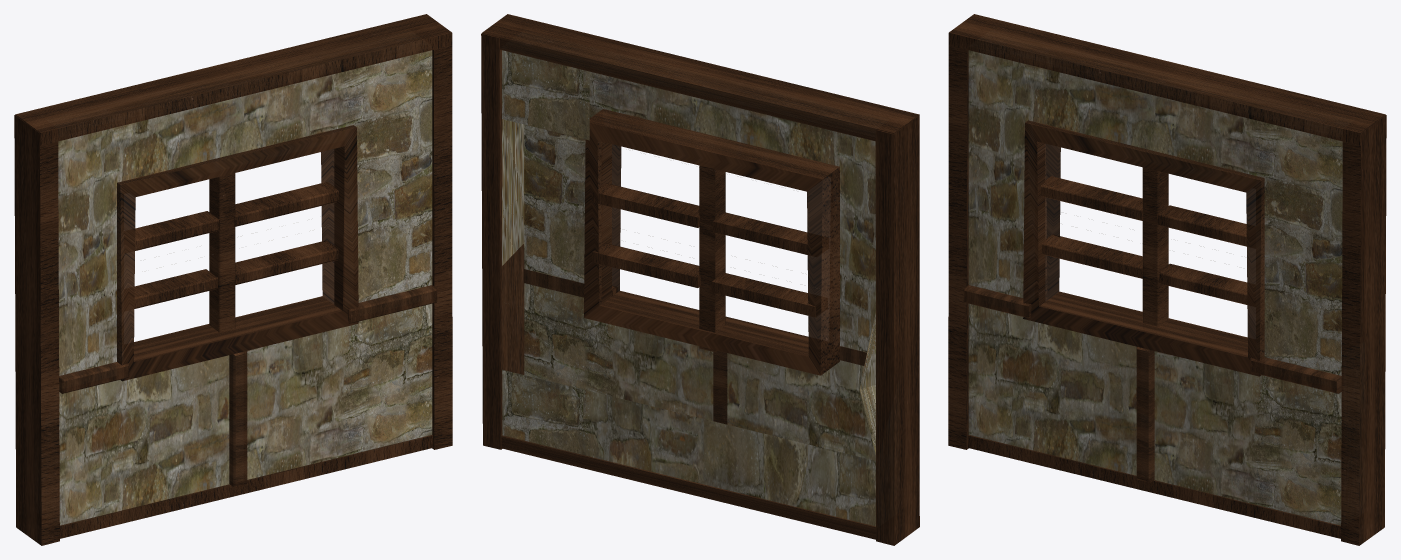
File: BuildingWindow.fbx
The picture shows the model from 3 angles, left to right: view 1: azimuth 30°, elevation 25°; view 2: azimuth 150°, elevation 25°; view 3: azimuth 330°, elevation 25°; orthographic projection.
Parts seen in each view (by area): view 1: BuildingWindowTile; view 2: BuildingWindowTile; view 3: BuildingWindowTile.
Part boxes in pixels (x1,y1,x2,y2): BuildingWindowTile: [14, 14, 452, 545]; BuildingWindowTile: [481, 14, 919, 545]; BuildingWindowTile: [948, 14, 1386, 545].
Size of the model in its own units: 6.49 by 6.21 by 0.8164.
Materials: 2 (2 with a texture image).
